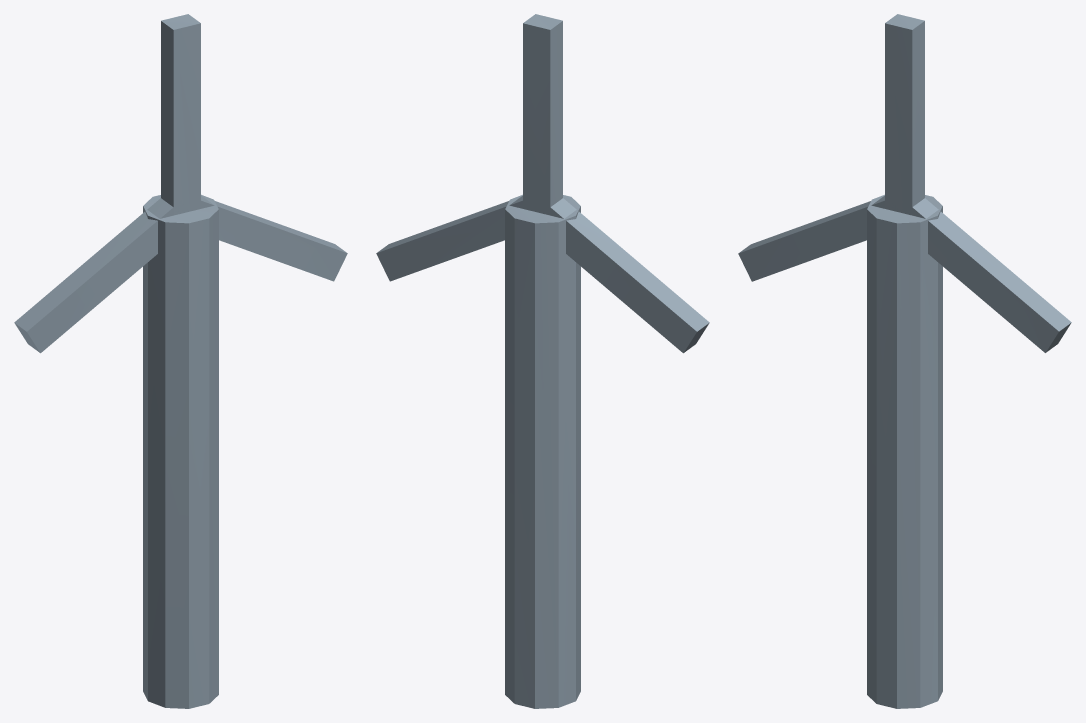
The model's file is wind_turbine-06.glb.
3 views of the same model, side by side, from view 1: azimuth 30°, elevation 25°; view 2: azimuth 150°, elevation 25°; view 3: azimuth 330°, elevation 25° (orthographic).
Parts seen in each view (by area): view 1: world; view 2: world; view 3: world.
Boxes of the visible parts, x1,y1,x2,y2 form: world: (14, 14, 347, 708); world: (376, 14, 709, 708); world: (738, 14, 1071, 708).
Size of the model in its own units: 1.17 by 2.33 by 0.2283.
